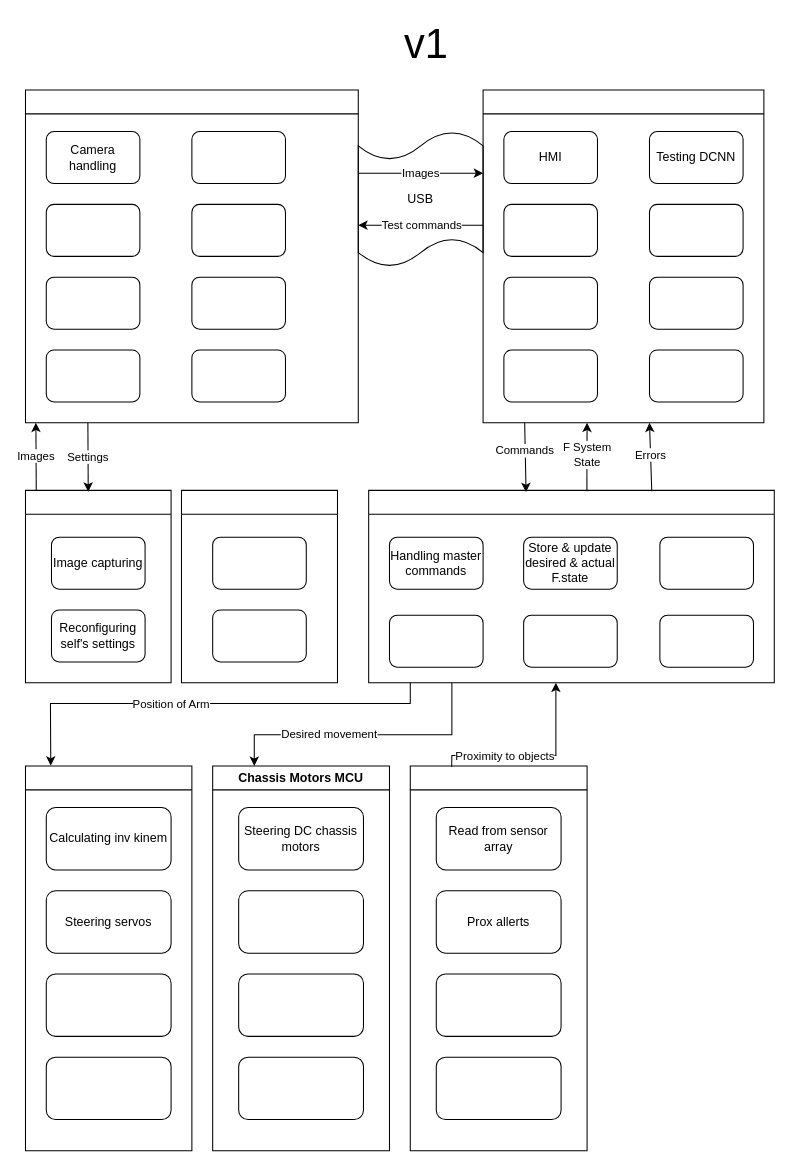
The diagram is 794 pixels wide and 1169 high, and some of its shapes have lost their labels. The box of each missing label's shape, as (x1, y1, x2, y2) in pixels:
Arm MCU: (24, 765, 192, 1151)
Camera: (24, 489, 171, 683)
Camera Position MCU: (180, 489, 337, 683)
Main MCU: (368, 489, 774, 683)
PC: (482, 89, 764, 423)
Prox Sensors MCU: (409, 765, 587, 1151)
RPI3: (24, 89, 358, 423)
